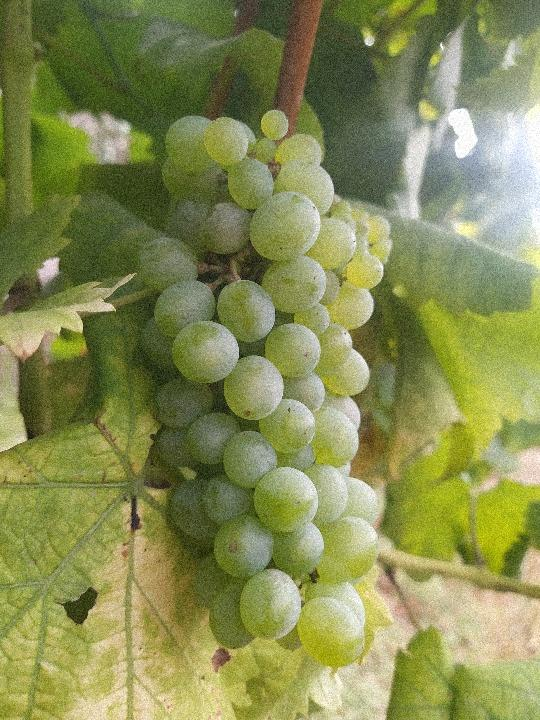grape: (132, 108, 386, 672)
